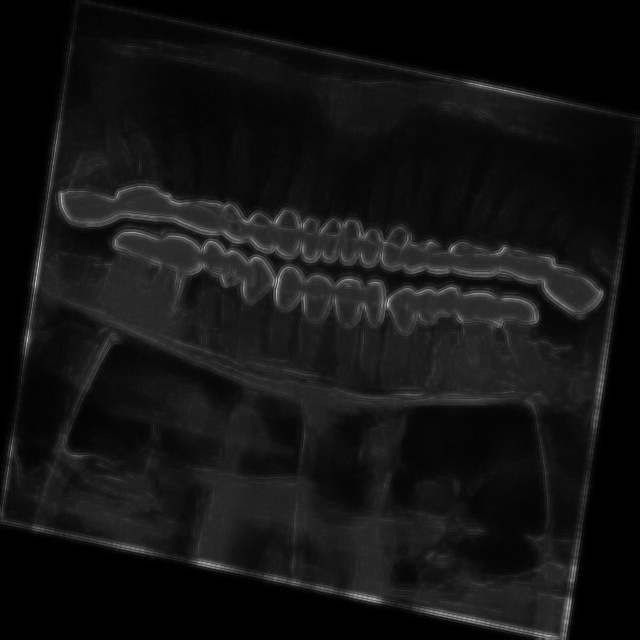Class 1- complete endodontic treatment: (118, 212, 225, 356)
Class 2- incomplete endodontic treatment: (477, 282, 577, 393)
cavity: (53, 69, 346, 275), (334, 135, 624, 336), (210, 240, 423, 422)
